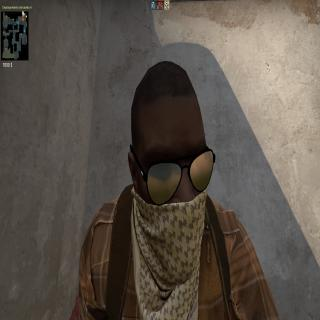T-Head: (124, 49, 217, 294)
